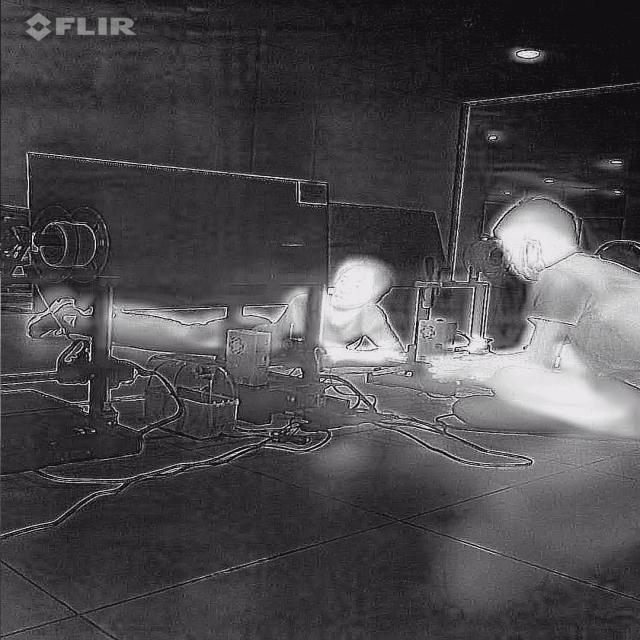Victim: (426, 181, 639, 443), (24, 253, 412, 369)
